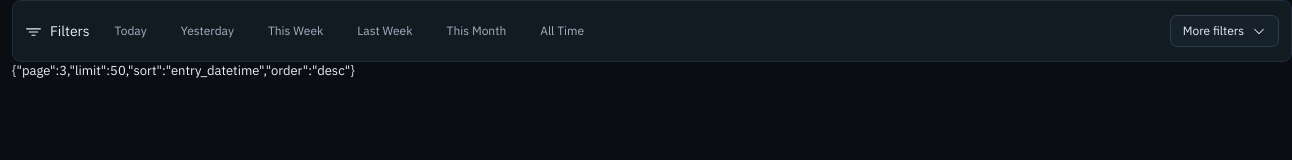
FilterBar › preserves date preset behavior and resets paging
What coordinates should you click on to do the following:
click the button "Today"
I would click on:
 (131, 31)
Its box is [102,15,160,47].
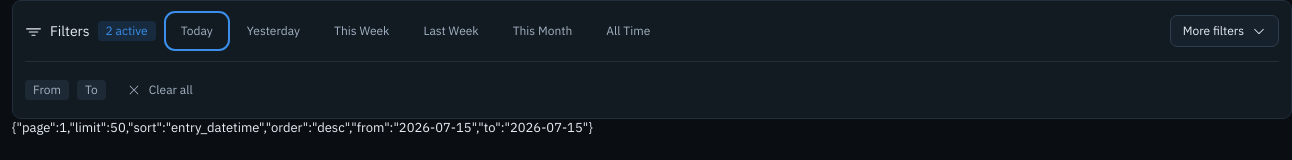
Result: the text named "Filter state" shows "\"from\":\"2026-07-15\"" at [12,119,593,136]
Result: the text named "Filter state" shows "\"to\":\"2026-07-15\"" at [12,119,593,136]
Result: the text named "Filter state" shows "\"page\":1" at [12,119,593,136]
What coordinates should you click on to do the following:
click the button "All Time"
I would click on:
 (628, 31)
Its box is [593,15,663,47].
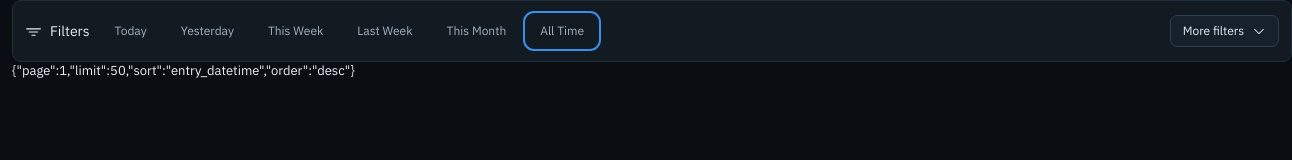
Result: the text named "Filter state" no longer shows "\"from\"" at [12,62,355,79]
Result: the text named "Filter state" no longer shows "\"to\"" at [12,62,355,79]
